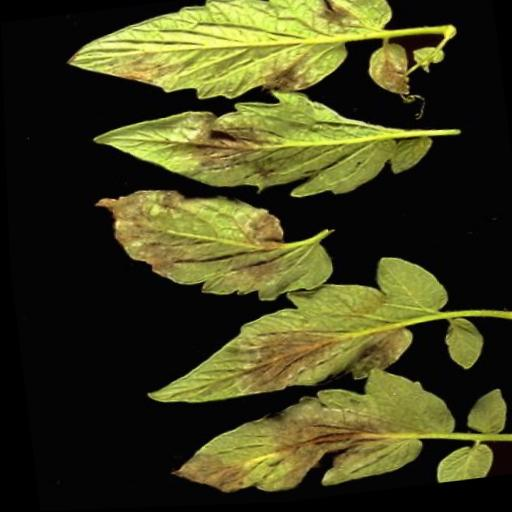Late Blight: (83, 65, 473, 225), (121, 248, 460, 414), (58, 0, 465, 123), (156, 359, 462, 508), (87, 166, 351, 316)
